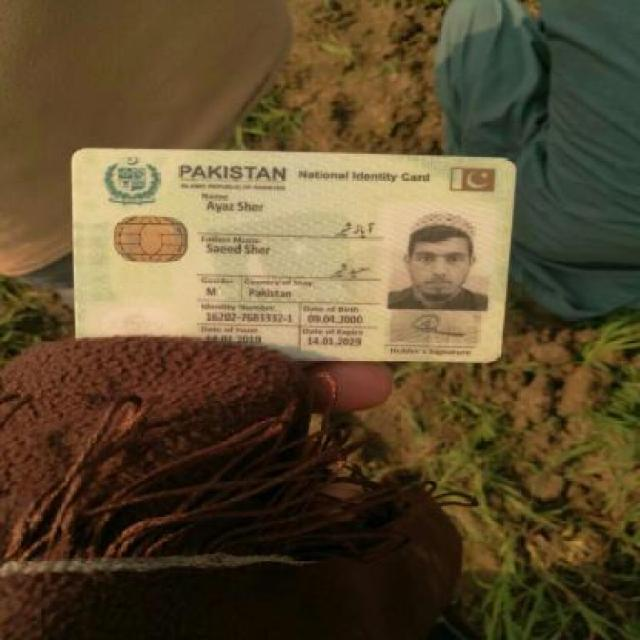Front: (66, 142, 517, 368)
